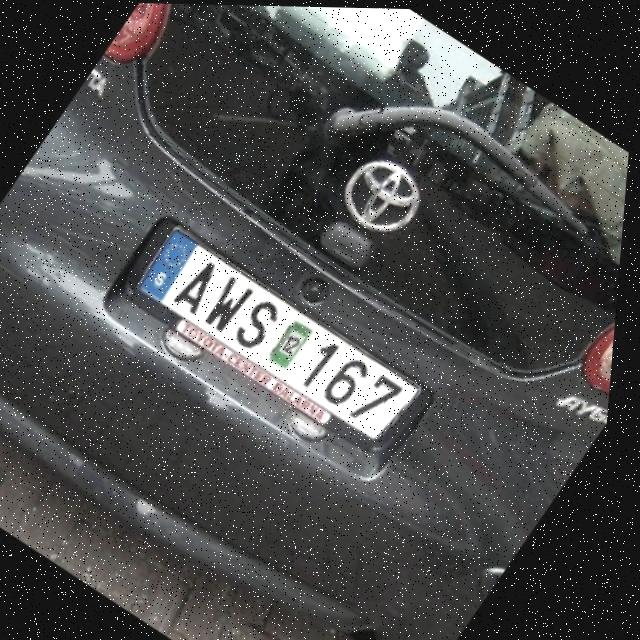license_plate: (120, 224, 440, 459)
